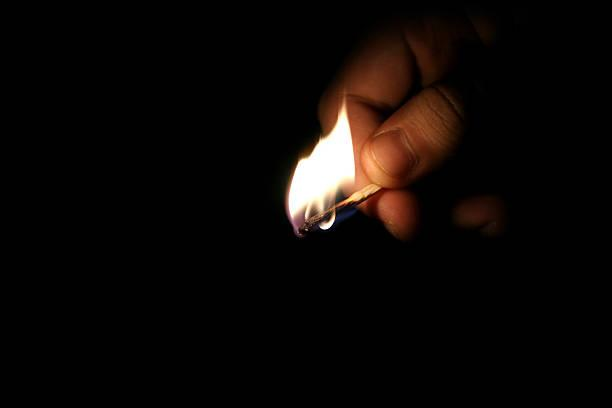Fire: (281, 90, 360, 237)
